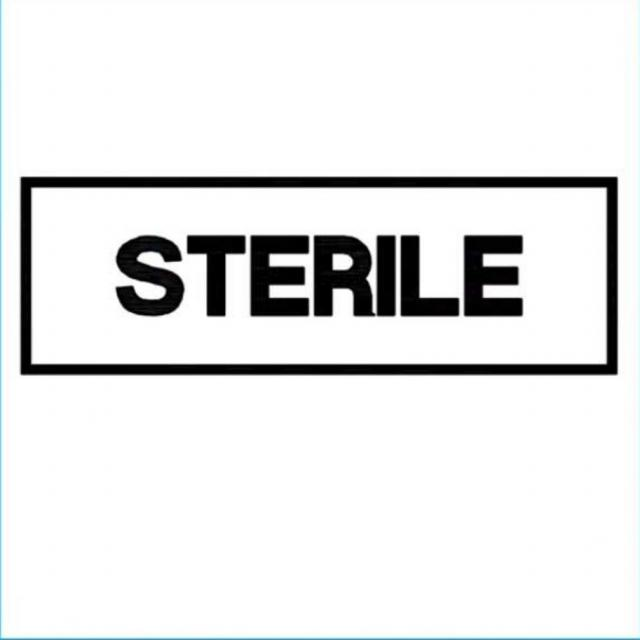Sterile: (21, 177, 618, 374)
